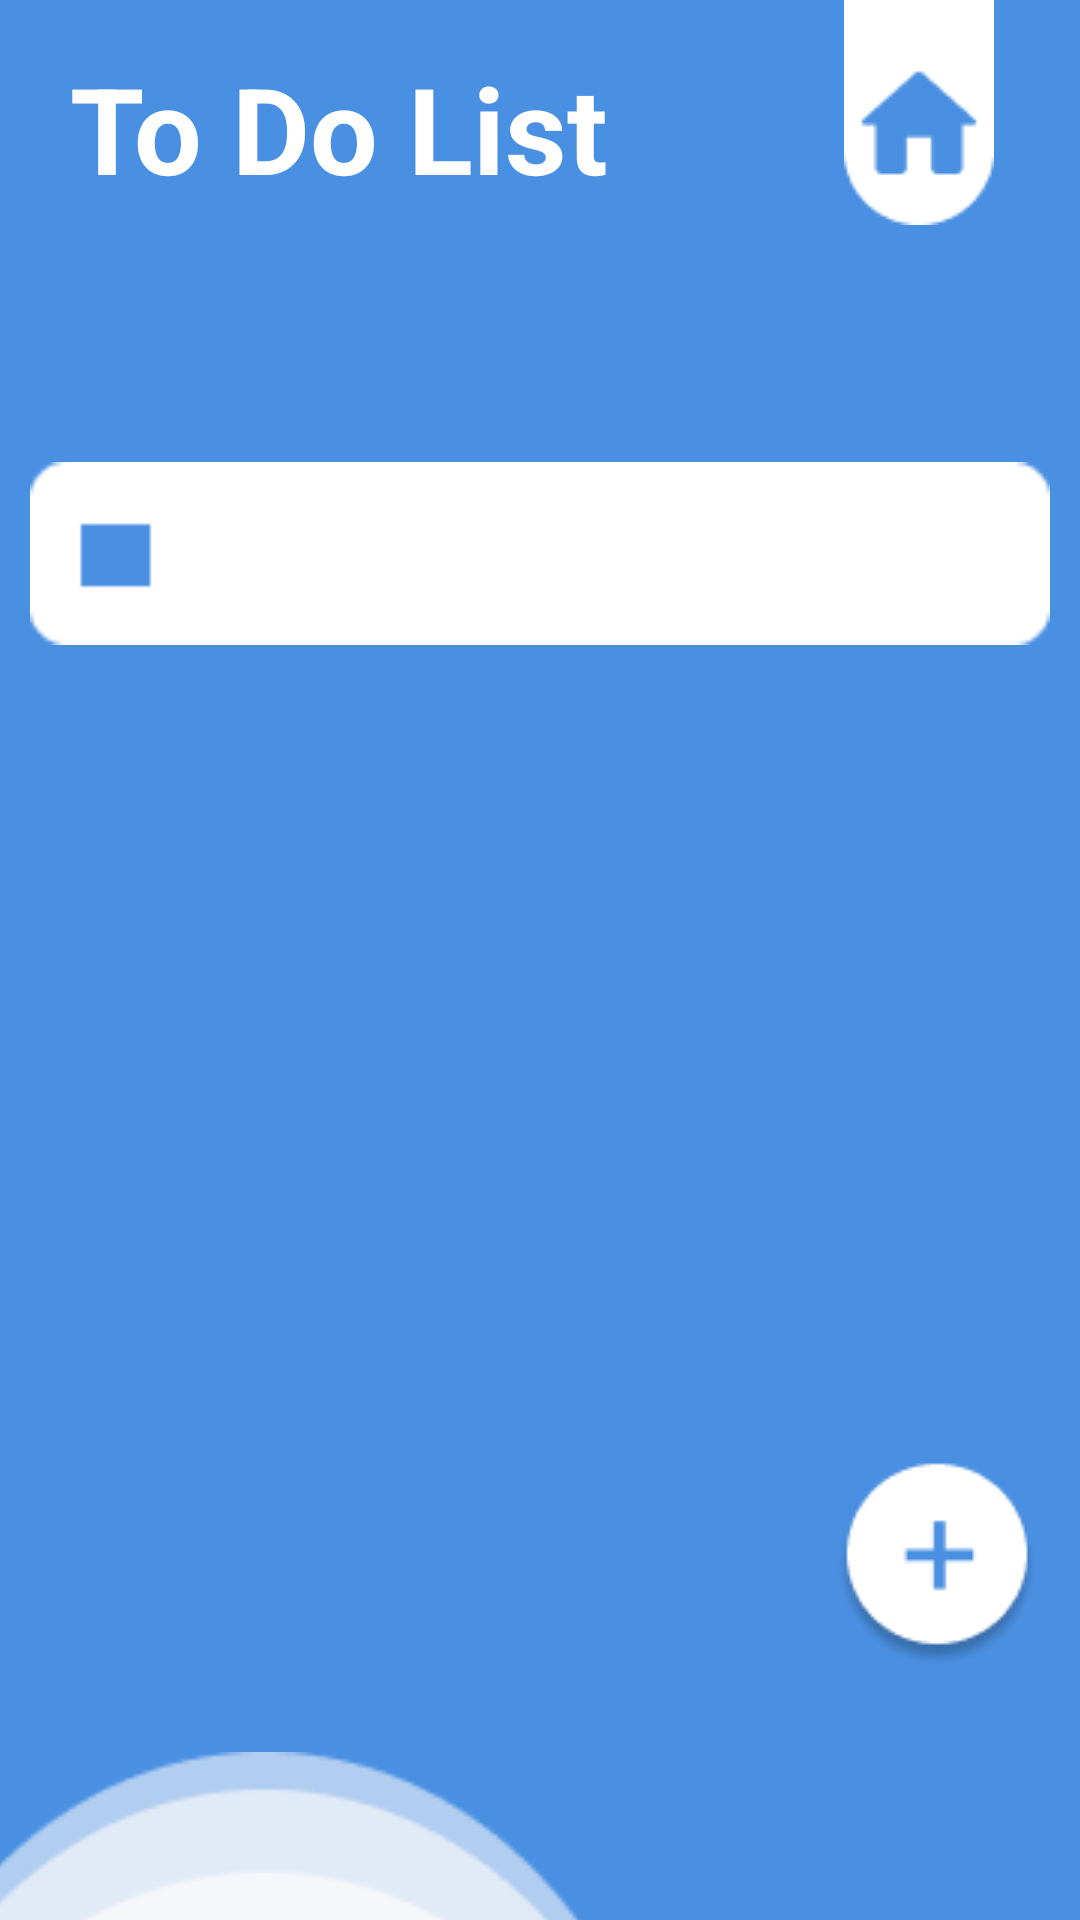

Where to tap for icons on this 1080px×1920px app screen, as (x=x, y=y):
btnhome: (x=919, y=112)
tambahlist: (x=937, y=1560)
